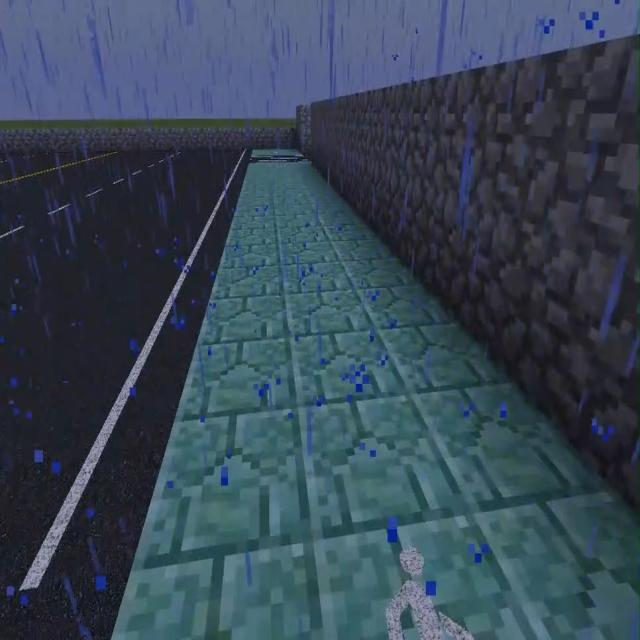crosswalk: (1, 149, 249, 639)
road: (110, 159, 639, 639), (250, 147, 301, 158)
